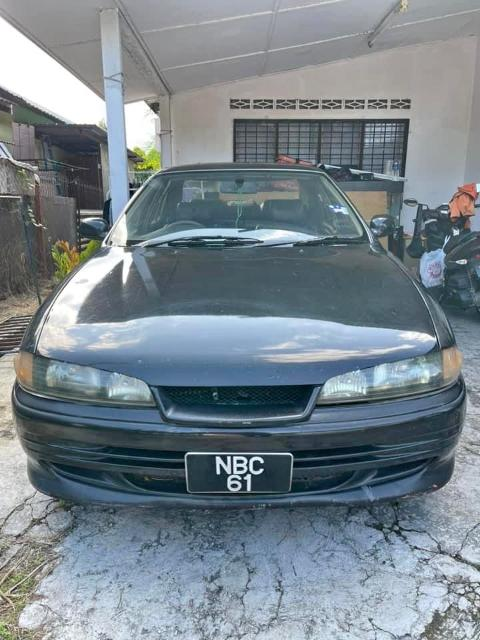License_Plate: (186, 447, 289, 499)
